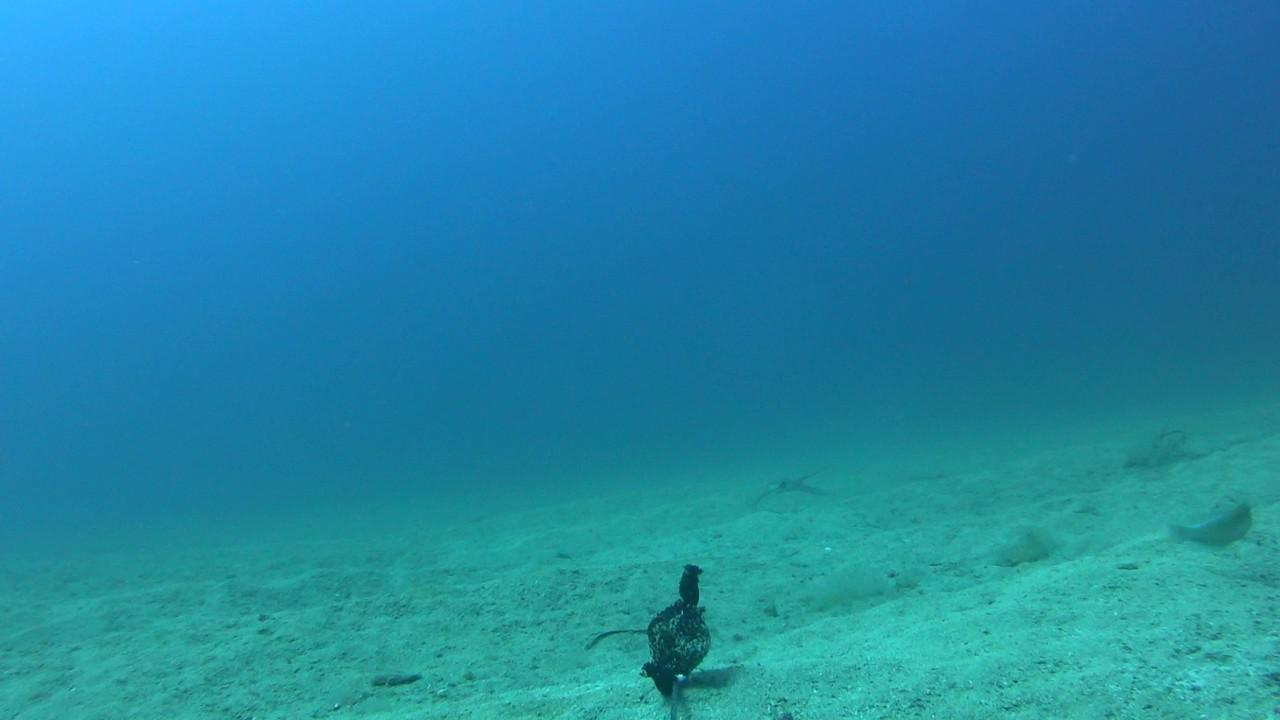myliobatis: (736, 454, 833, 510)
raor: (1162, 503, 1255, 551)
